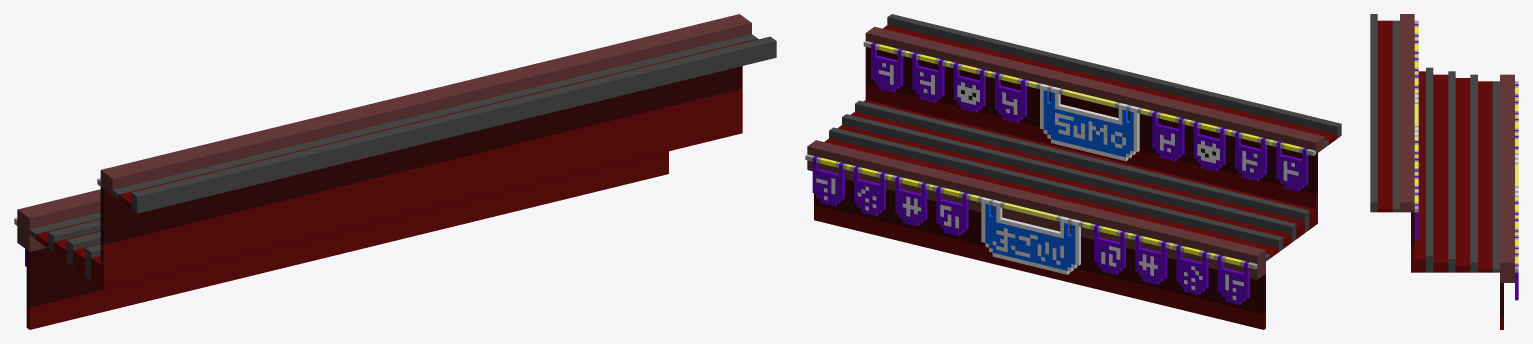
File: surroundings2.obj
3 renders of one model, left to right at view 1: azimuth 30°, elevation 25°; view 2: azimuth 150°, elevation 25°; view 3: azimuth 270°, elevation 25°, orthographic. The views are drawn at different scales.
Parts seen in each view (by area): view 1: surroundings2; view 2: surroundings2; view 3: surroundings2.
Part boxes in pixels (x1,y1,x2,y2): surroundings2: [14, 14, 776, 329]; surroundings2: [805, 14, 1341, 329]; surroundings2: [1370, 14, 1518, 329].
Bounding box in the file's own units: 120 × 38 × 40.
1 material, 1 textured.
